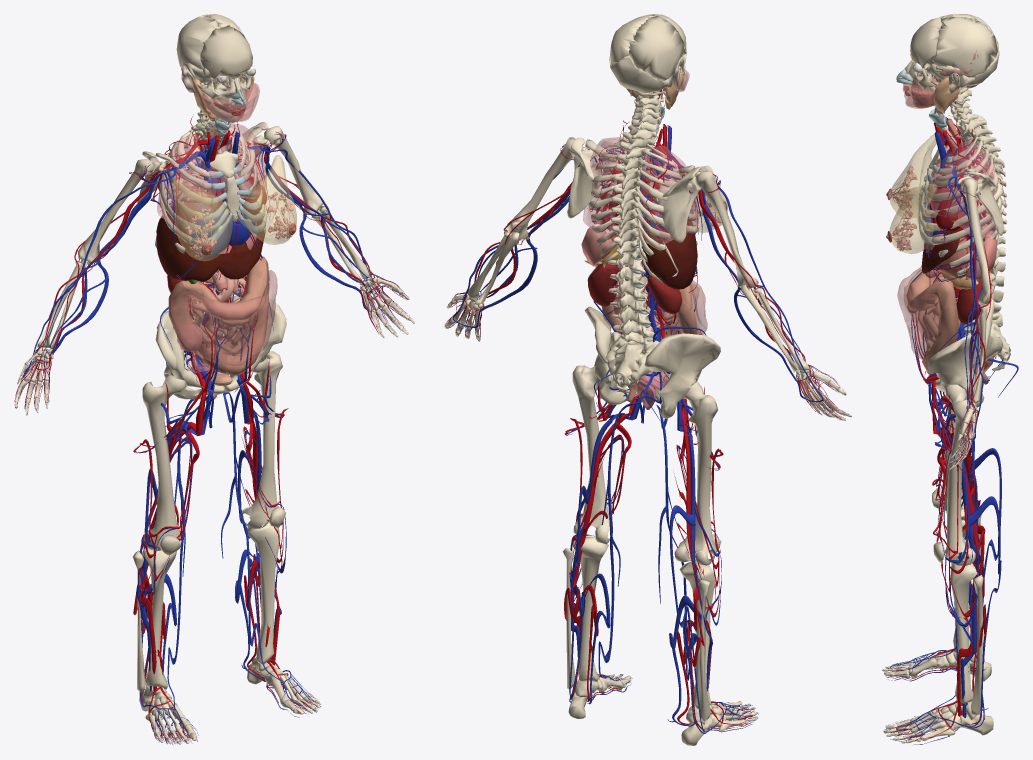
Rendered from f-inside.glb.
3 views of the same model, side by side, from view 1: azimuth 30°, elevation 25°; view 2: azimuth 150°, elevation 25°; view 3: azimuth 270°, elevation 25° (orthographic). The views are drawn at different scales.
Parts seen in each view (by area): view 1: bone, glass, vein, organ, artery; view 2: bone, vein, artery, organ, glass; view 3: bone, glass, organ, vein, artery, heart.
Boxes of the visible parts, box(x1,y1,x2,y2) form: bone: box(15, 14, 414, 744); glass: box(157, 82, 296, 382); vein: box(16, 70, 408, 744); organ: box(155, 66, 296, 399); artery: box(14, 70, 409, 743); bone: box(444, 14, 851, 745); vein: box(445, 125, 848, 733); artery: box(445, 89, 845, 730); organ: box(581, 67, 727, 409); glass: box(583, 70, 728, 388); bone: box(882, 14, 1010, 743); glass: box(889, 80, 998, 374); organ: box(886, 46, 997, 385); vein: box(884, 122, 1018, 744); artery: box(888, 62, 1005, 741); heart: box(929, 187, 968, 232).
Size of the model in its own units: 1.01 by 1.66 by 0.2991.
